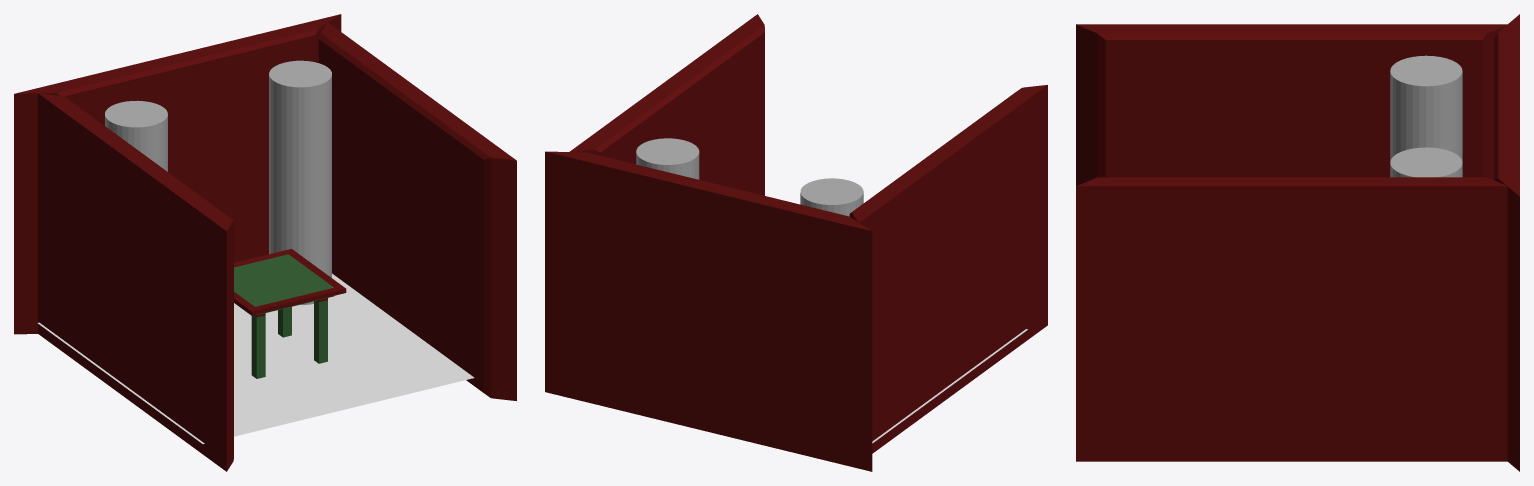
Rendered from Slot machine room.fbx.
3 renders of one model, left to right at view 1: azimuth 30°, elevation 25°; view 2: azimuth 150°, elevation 25°; view 3: azimuth 270°, elevation 25°, orthographic. The views are drawn at different scales.
Parts seen in each view (by area): view 1: Walls, Floor, Pillar.001, Table, Pillar; view 2: Walls, Pillar.001, Pillar; view 3: Walls, Pillar, Pillar.001.
Part boxes in pixels (x1=…): Walls: x1=14, y1=14, x2=516, y2=471; Floor: x1=37, y1=273, x2=474, y2=443; Pillar.001: x1=269, y1=60, x2=331, y2=304; Table: x1=234, y1=249, x2=346, y2=378; Pillar: x1=105, y1=100, x2=167, y2=171; Walls: x1=545, y1=14, x2=1047, y2=471; Pillar.001: x1=636, y1=138, x2=699, y2=179; Pillar: x1=800, y1=178, x2=863, y2=216; Walls: x1=1076, y1=14, x2=1519, y2=471; Pillar: x1=1390, y1=55, x2=1462, y2=162; Pillar.001: x1=1390, y1=147, x2=1462, y2=177.
Size of the model in its own units: 1196 by 840 by 1228.
